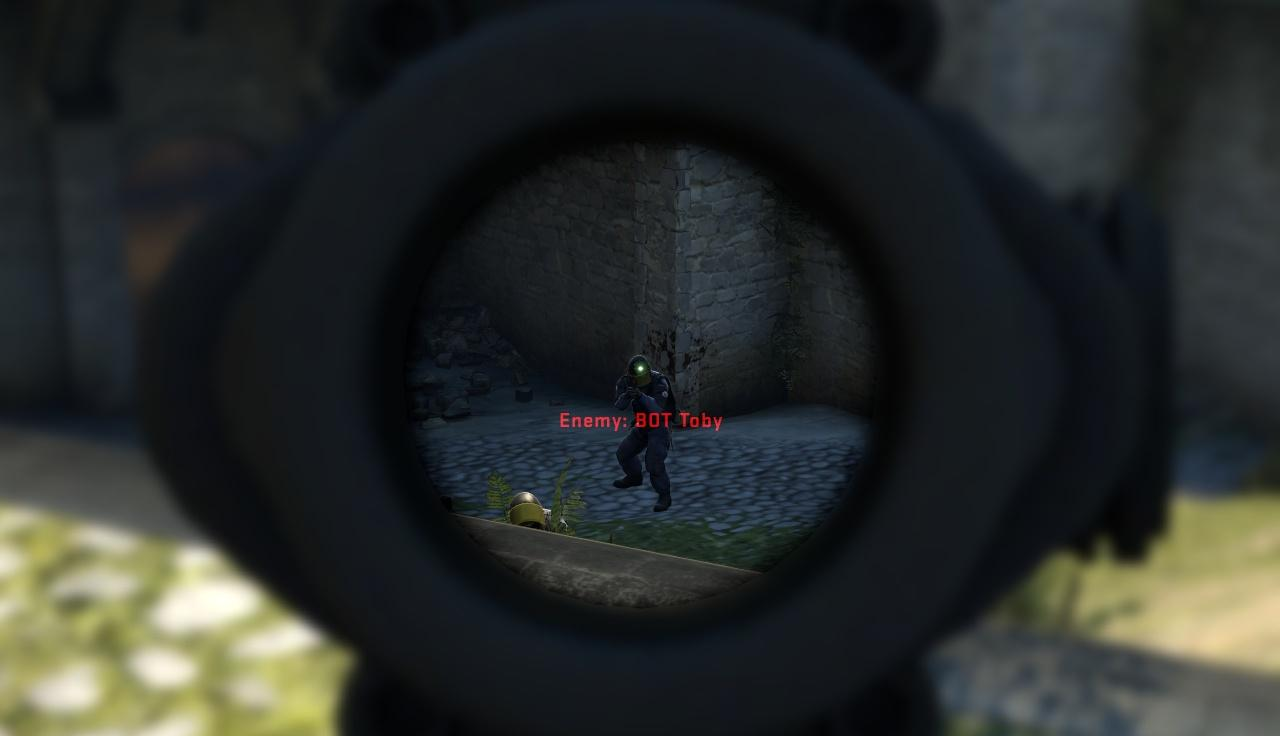ct: (615, 352, 675, 509)
cthead: (509, 492, 546, 531), (628, 355, 651, 385)
